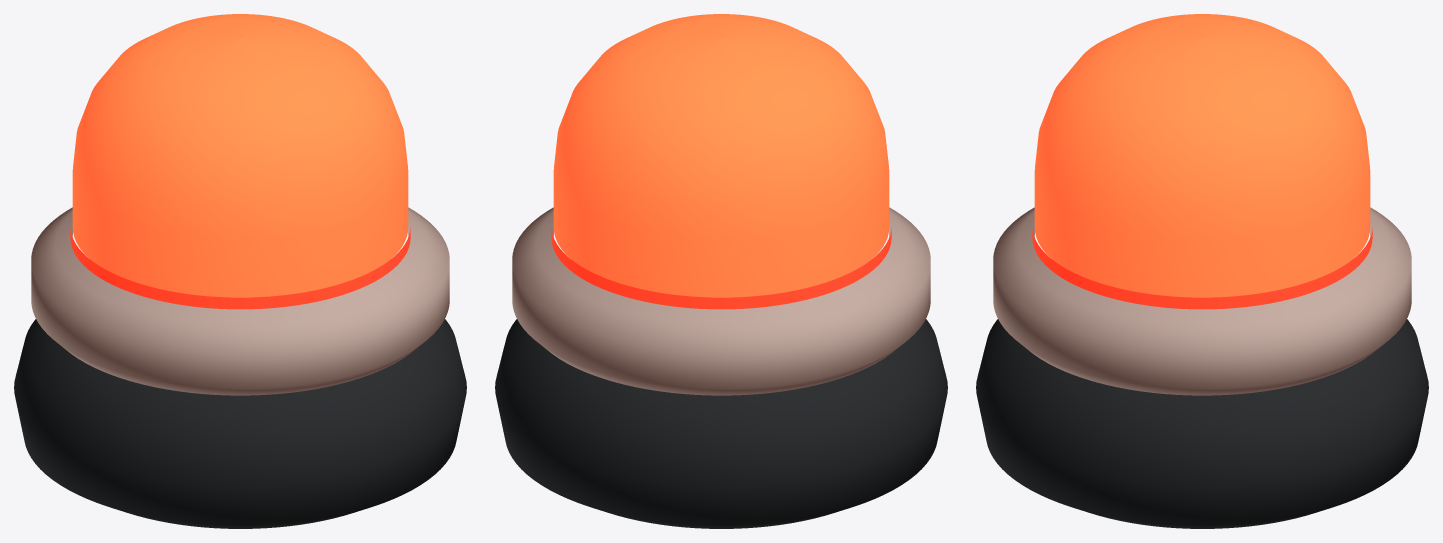
File: BigRedButtonGlowLevel20.glb
3 views of the same model, side by side, from view 1: azimuth 30°, elevation 25°; view 2: azimuth 150°, elevation 25°; view 3: azimuth 270°, elevation 25° (orthographic).
Parts seen in each view (by area): view 1: button, button_base, metal_bezel, cap_side_shadow; view 2: button, button_base, metal_bezel, cap_side_shadow; view 3: button, button_base, metal_bezel, cap_side_shadow.
Boxes of the visible parts, x1,y1,x2,y2 form: button: (72,14,408,297); button_base: (14,319,466,528); metal_bezel: (31,207,449,395); cap_side_shadow: (70,228,410,309); button: (553,14,889,297); button_base: (495,319,947,528); metal_bezel: (512,207,930,395); cap_side_shadow: (551,228,891,309); button: (1034,14,1370,297); button_base: (976,319,1428,528); metal_bezel: (993,207,1411,395); cap_side_shadow: (1032,228,1372,309).
Bounding box in the file's own units: 0.0185 × 0.0185 × 0.0185.
